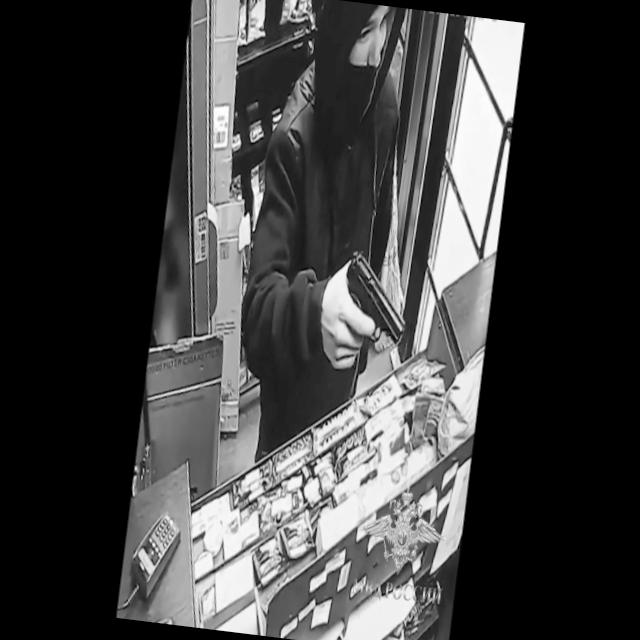gun: (316, 236, 418, 382)
person with a gun: (228, 0, 446, 449)
